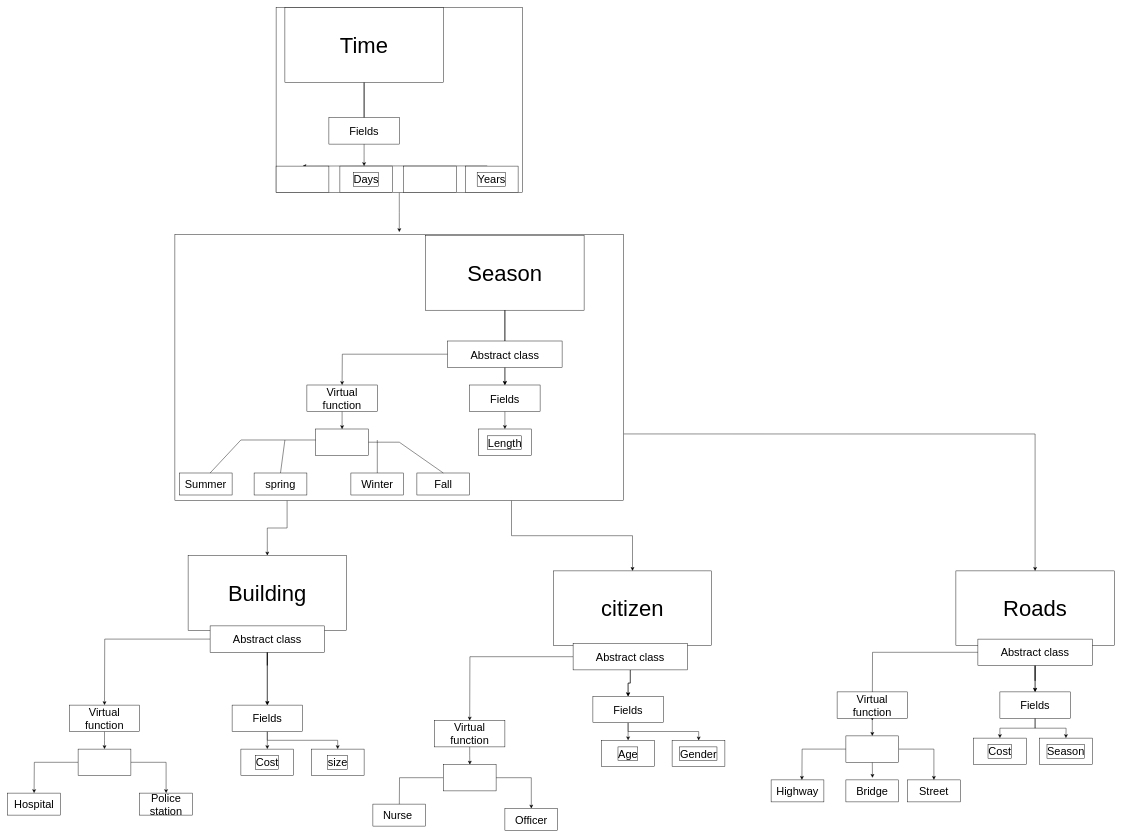
This 1122x838 diagram has some shape labels left out. The box of each missing label's shape, as (x1, y1, x2, y2) in pixels:
Hours: (276, 166, 329, 192)
Jobs: (443, 764, 496, 791)
Months: (403, 166, 456, 192)
seasons: (315, 429, 368, 455)
type of building: (78, 749, 131, 776)
Type of road: (845, 735, 899, 762)
